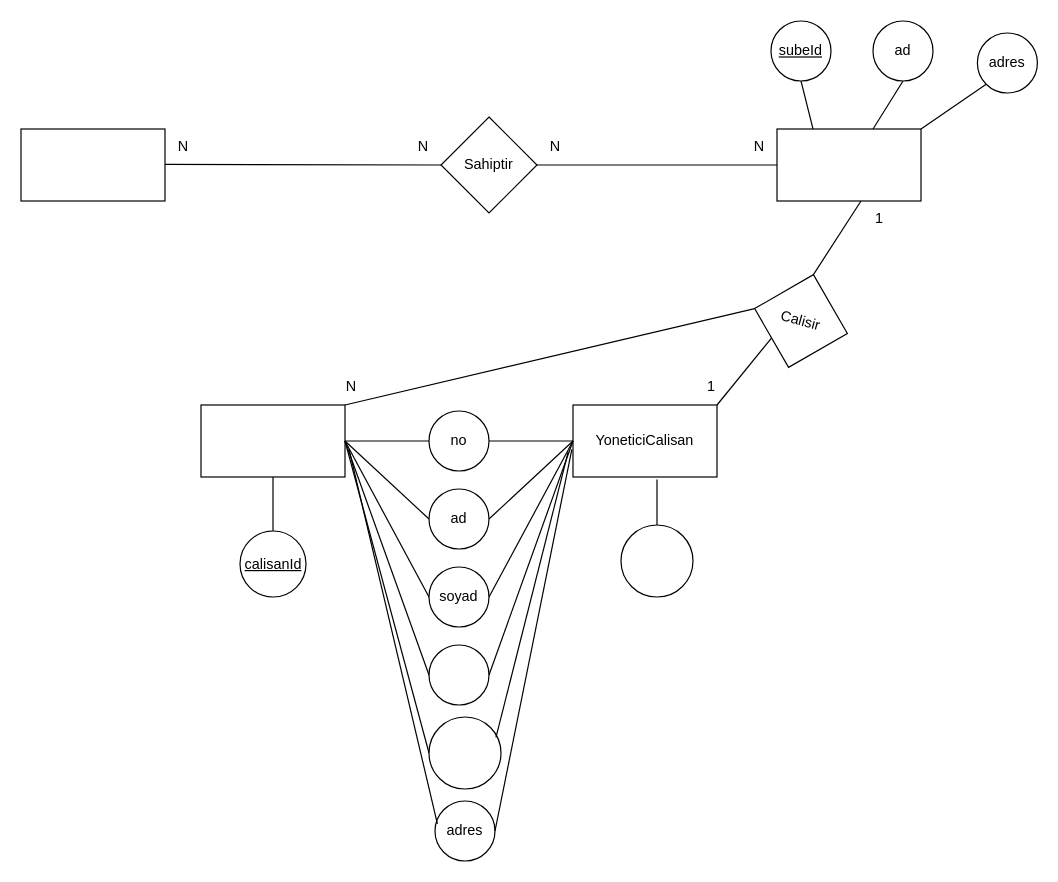
Some shapes in this 1058 by 882 pixel diagram are drawn without their labels. Each missing label, with the box of its shape:
Calisan: (200, 404, 345, 477)
gorevYeri: (428, 716, 501, 789)
maas: (428, 644, 489, 705)
Sirket: (20, 128, 165, 201)
Sube: (776, 128, 921, 201)
yoneticiId: (620, 524, 693, 597)
